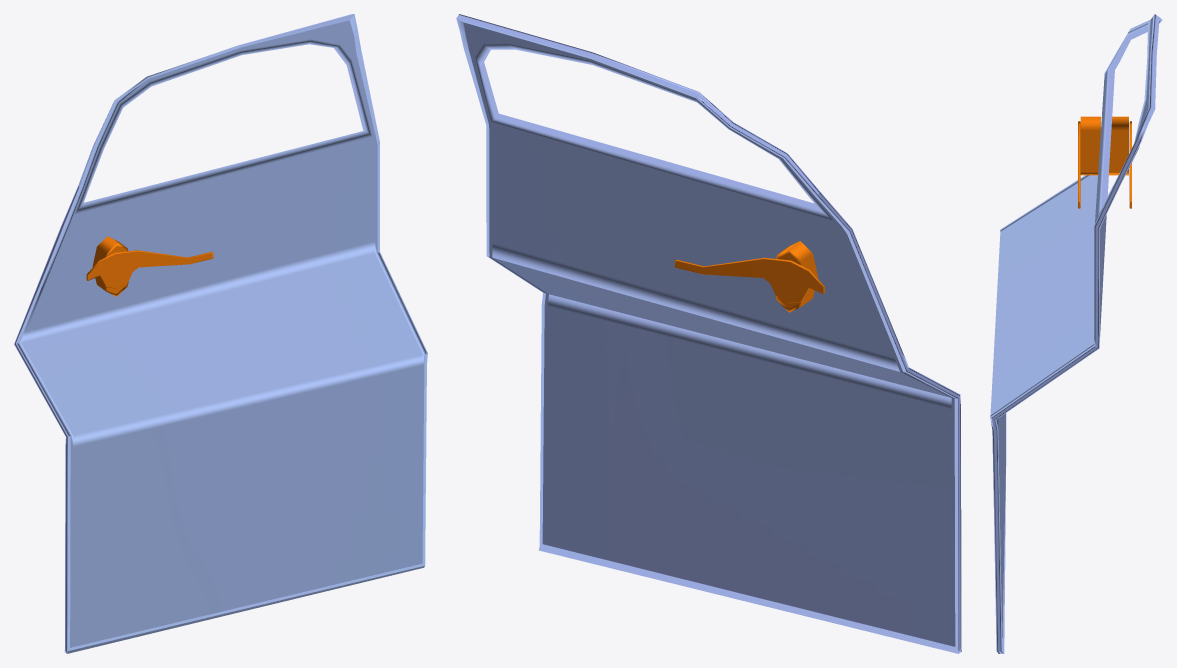
The model's file is PortasFrenteEsquerdaCarro.fbx.
3 renders of one model, left to right at view 1: azimuth 30°, elevation 25°; view 2: azimuth 150°, elevation 25°; view 3: azimuth 270°, elevation 25°, orthographic. The views are drawn at different scales.
Parts seen in each view (by area): view 1: PortasFrenteEsquerdaCarro; view 2: PortasFrenteEsquerdaCarro; view 3: PortasFrenteEsquerdaCarro.
Part boxes in pixels (left/top/right/bottom): PortasFrenteEsquerdaCarro: left=14, top=14, right=427, bottom=653; PortasFrenteEsquerdaCarro: left=456, top=14, right=961, bottom=653; PortasFrenteEsquerdaCarro: left=990, top=14, right=1162, bottom=653.
Bounding box in the file's own units: 77.26 × 103 × 29.47.
